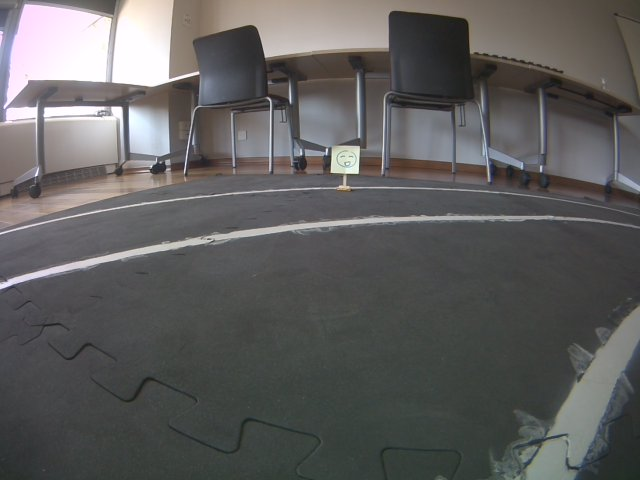Smiley: (326, 143, 362, 176)
